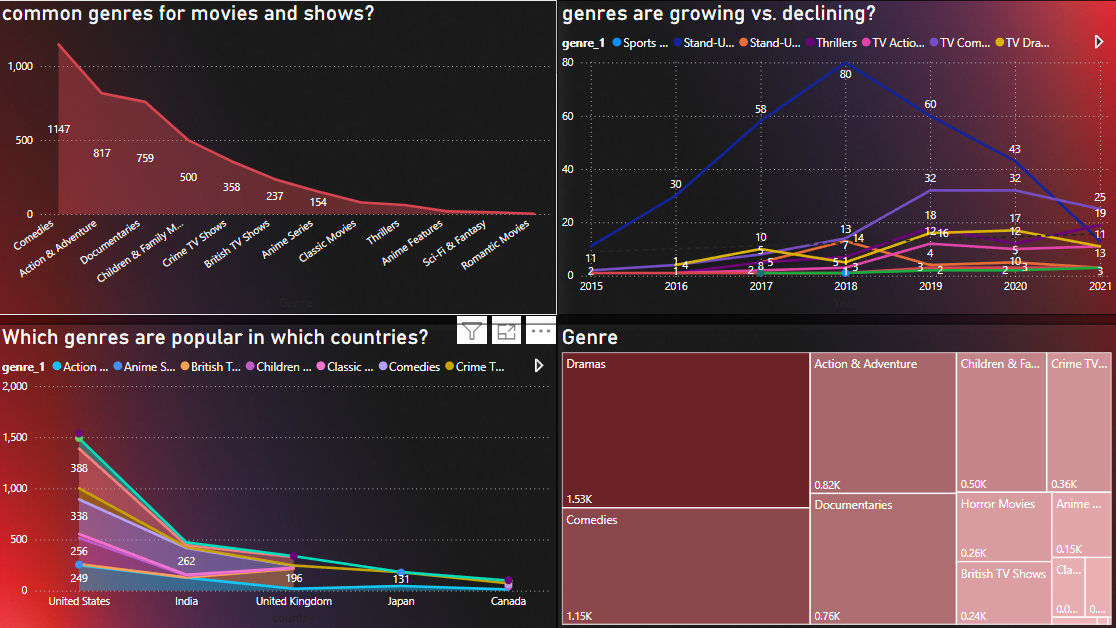

The page's visual inventory and layout, read from the dashboard file:
{"tool":"powerbi","page":{"name":"Genre Analysis","canvas":[1280,720],"ordinal":3},"visuals":[{"type":"stackedAreaChart","title":"common genres for movies and shows?","fields":{"Category":["netflix_titles_stage.genre_1"],"Y":["CountNonNull(netflix_titles_stage.type)"]},"box":[0,0,640,360],"z":0},{"type":"lineChart","title":"genres are growing vs. declining?","fields":{"Series":["netflix_titles_stage.genre_1"],"Category":["netflix_titles_stage.date_added.Variation.Date Hierarchy.Year"],"Y":["CountNonNull(netflix_titles_stage.genre_1)"]},"box":[640,0,640,360],"z":1000},{"type":"stackedAreaChart","title":"Which genres are popular in which countries?","fields":{"Category":["netflix_titles_stage.country"],"Y":["CountNonNull(netflix_titles_stage.genre_1)"],"Series":["netflix_titles_stage.genre_1"]},"box":[0,370,640,350],"z":2000},{"type":"treemap","title":"Genre","fields":{"Group":["netflix_titles_stage.genre_1"],"Values":["CountNonNull(netflix_titles_stage.genre_1)"]},"box":[640,370,640,350],"z":3000}]}

Visuals, with their boxes in screenshot pixels (x1, y1, x2, y2), scaled from the page's 1280x720 canvas onto the 1116x628 screenshot:
"common genres for movies and shows?" stackedAreaChart: 0:0:558:314
"genres are growing vs. declining?" lineChart: 558:0:1115:314
"Which genres are popular in which countries?" stackedAreaChart: 0:323:558:627
"Genre" treemap: 558:323:1115:627
